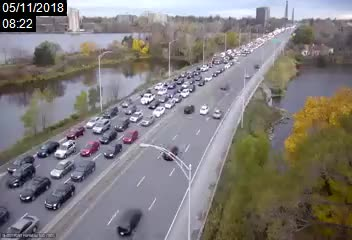congestion: (6, 102, 145, 208), (115, 75, 182, 127), (156, 57, 224, 88), (207, 43, 246, 66)
personal_car: (2, 215, 41, 240), (44, 181, 75, 211), (116, 208, 143, 236), (19, 177, 50, 201), (5, 166, 37, 186), (71, 158, 95, 183), (7, 154, 36, 173), (48, 158, 74, 178), (53, 140, 77, 158), (36, 140, 59, 157), (101, 141, 122, 158), (79, 140, 100, 156), (163, 144, 178, 163), (120, 129, 139, 143), (67, 124, 84, 139), (100, 129, 116, 144), (93, 120, 110, 134), (103, 106, 119, 119), (140, 92, 153, 105), (116, 118, 129, 131), (86, 116, 100, 128), (198, 104, 210, 116), (154, 105, 165, 117), (142, 116, 154, 127), (1, 204, 7, 226), (212, 107, 223, 119), (131, 109, 141, 122), (140, 88, 152, 98), (184, 103, 194, 115), (157, 87, 167, 97), (164, 98, 174, 108), (121, 98, 132, 107), (172, 94, 182, 103), (125, 104, 135, 113), (153, 82, 163, 90), (148, 99, 158, 107), (185, 69, 193, 78), (166, 89, 174, 98), (193, 67, 200, 77), (204, 74, 212, 82), (167, 81, 175, 89), (176, 85, 184, 93), (200, 64, 207, 72), (187, 84, 195, 91), (176, 77, 183, 85), (180, 90, 188, 97), (215, 67, 222, 74), (187, 77, 194, 84), (172, 73, 179, 80), (164, 79, 172, 85), (198, 79, 204, 85), (181, 81, 187, 87), (180, 70, 185, 77)
